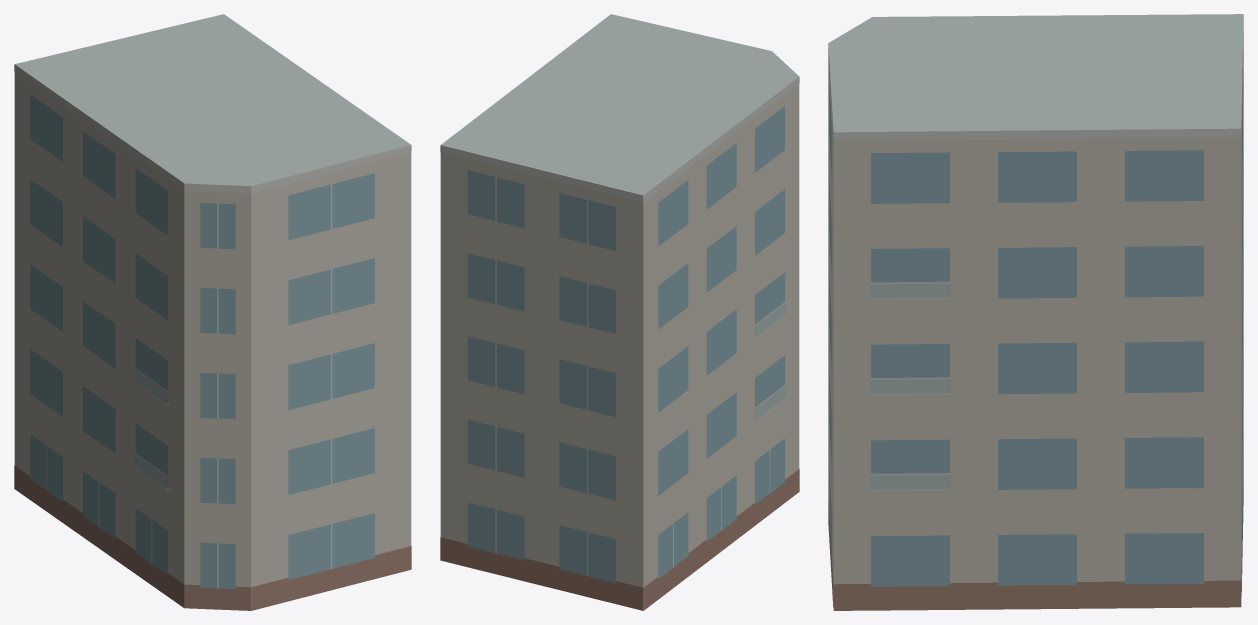
Rendered from survey-upis-32875749.glb.
3 renders of one model, left to right at view 1: azimuth 30°, elevation 25°; view 2: azimuth 150°, elevation 25°; view 3: azimuth 270°, elevation 25°, orthographic. The views are drawn at different scales.
Parts seen in each view (by area): view 1: survey-upis-32875749.tmp; view 2: survey-upis-32875749.tmp; view 3: survey-upis-32875749.tmp.
Boxes of the visible parts, left/top/right/bottom form: survey-upis-32875749.tmp: left=14, top=14, right=411, bottom=610; survey-upis-32875749.tmp: left=440, top=14, right=799, bottom=610; survey-upis-32875749.tmp: left=828, top=14, right=1243, bottom=610.
Size of the model in its own units: 7.36 by 13.85 by 10.9.
